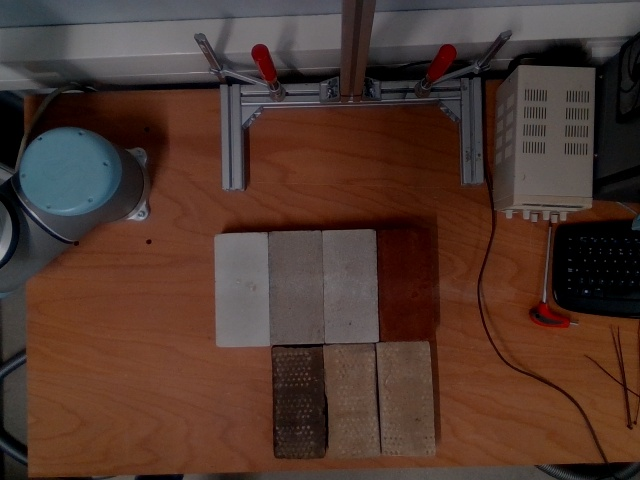brick: (376, 227, 437, 342), (324, 343, 382, 459), (322, 230, 380, 344), (267, 231, 324, 346), (379, 341, 436, 456), (213, 233, 268, 348), (271, 347, 325, 460)
